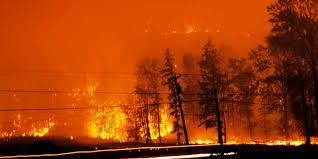fire: (0, 112, 56, 139)
